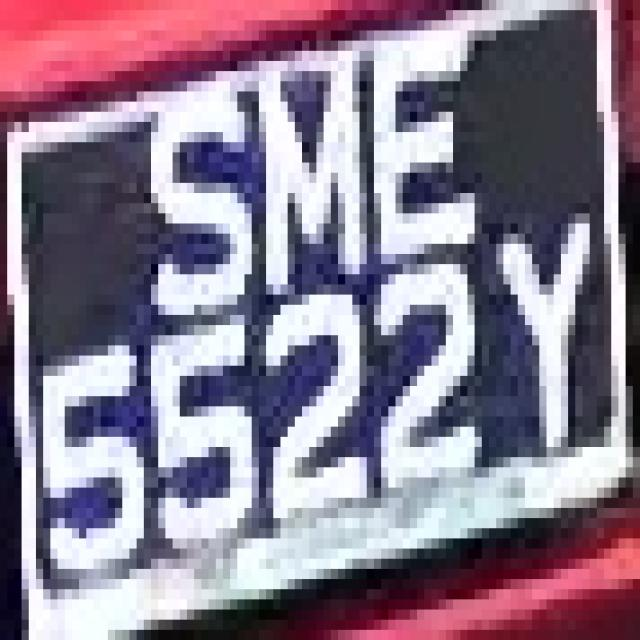2: (352, 244, 482, 528), (259, 274, 374, 498)
5: (144, 295, 273, 579), (43, 335, 137, 579)
E: (360, 21, 489, 284)
M: (237, 51, 374, 305)
S: (130, 71, 266, 325)
Y: (482, 213, 604, 447)
